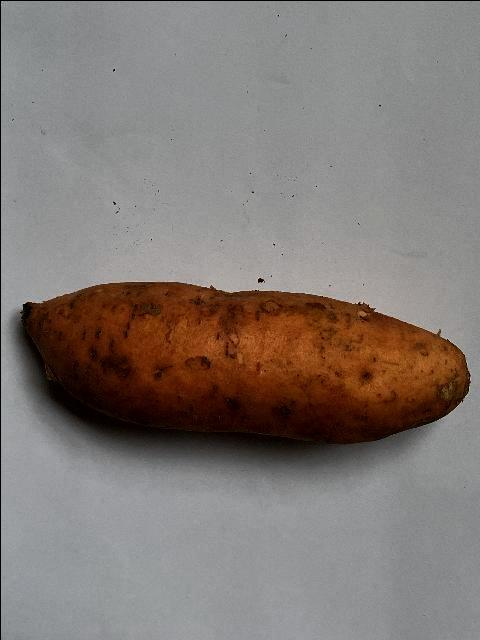sweetpotato: (19, 278, 470, 448)
